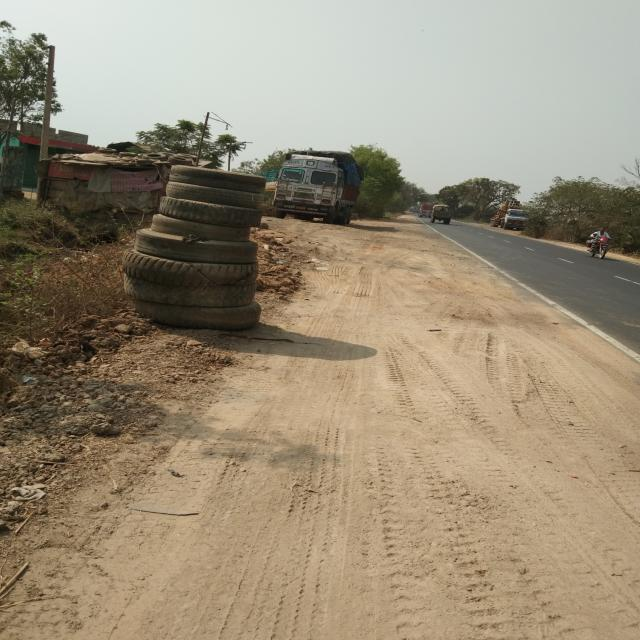truck_front: (270, 146, 364, 228)
two_wheeler_front: (582, 230, 614, 262)
